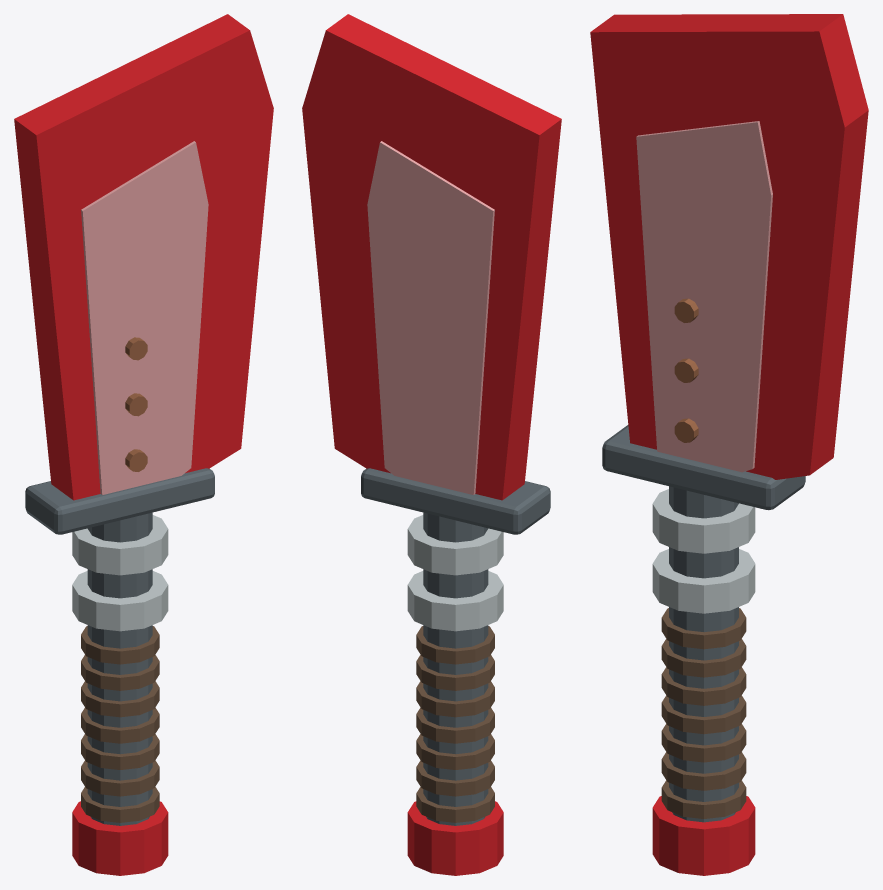
The model's file is Cleaver.fbx.
3 renders of one model, left to right at view 1: azimuth 30°, elevation 25°; view 2: azimuth 150°, elevation 25°; view 3: azimuth 330°, elevation 25°, orthographic. The views are drawn at different scales.
Parts seen in each view (by area): view 1: Silhouette.003, Noyau.003, Manche.003, Garde.003, Pommeau.003, Collier.006, Collier.007, Bande_06.003, Bande_03.003, Bande_04.003, Bande_05.003, Bande_00.003 (+2 smaller); view 2: Silhouette.003, Noyau.003, Manche.003, Garde.003, Pommeau.003, Collier.006, Collier.007, Bande_06.003, Bande_03.003, Bande_04.003, Bande_05.003, Bande_00.003 (+2 smaller); view 3: Silhouette.003, Noyau.003, Manche.003, Garde.003, Pommeau.003, Collier.006, Collier.007, Bande_06.003, Bande_02.003, Bande_01.003, Bande_04.003, Bande_05.003 (+2 smaller).
Boxes of the visible parts, bbox=[...] form: Silhouette.003: bbox=[14, 14, 273, 500]; Noyau.003: bbox=[81, 141, 208, 494]; Manche.003: bbox=[87, 512, 152, 825]; Garde.003: bbox=[25, 468, 214, 534]; Pommeau.003: bbox=[72, 801, 168, 875]; Collier.006: bbox=[72, 571, 168, 631]; Collier.007: bbox=[72, 515, 168, 575]; Bande_06.003: bbox=[81, 626, 159, 664]; Bande_03.003: bbox=[81, 707, 159, 743]; Bande_04.003: bbox=[81, 681, 159, 717]; Bande_05.003: bbox=[81, 655, 159, 690]; Bande_00.003: bbox=[81, 787, 159, 822]; Silhouette.003: bbox=[302, 14, 561, 500]; Noyau.003: bbox=[367, 141, 494, 494]; Manche.003: bbox=[423, 512, 488, 825]; Garde.003: bbox=[361, 468, 550, 534]; Pommeau.003: bbox=[407, 801, 503, 875]; Collier.006: bbox=[407, 571, 503, 631]; Collier.007: bbox=[407, 515, 503, 575]; Bande_06.003: bbox=[416, 626, 494, 664]; Bande_03.003: bbox=[416, 707, 494, 743]; Bande_04.003: bbox=[416, 681, 494, 717]; Bande_05.003: bbox=[416, 655, 494, 690]; Bande_00.003: bbox=[416, 787, 494, 822]; Silhouette.003: bbox=[590, 14, 868, 479]; Noyau.003: bbox=[636, 121, 772, 472]; Manche.003: bbox=[669, 486, 738, 822]; Garde.003: bbox=[602, 425, 805, 510]; Pommeau.003: bbox=[652, 796, 755, 875]; Collier.006: bbox=[652, 549, 755, 613]; Collier.007: bbox=[652, 489, 755, 553]; Bande_06.003: bbox=[661, 608, 746, 649]; Bande_02.003: bbox=[661, 723, 746, 762]; Bande_01.003: bbox=[661, 752, 746, 790]; Bande_04.003: bbox=[661, 667, 746, 705]; Bande_05.003: bbox=[661, 639, 746, 677].
Size of the model in its own units: 80 by 259 by 28.
